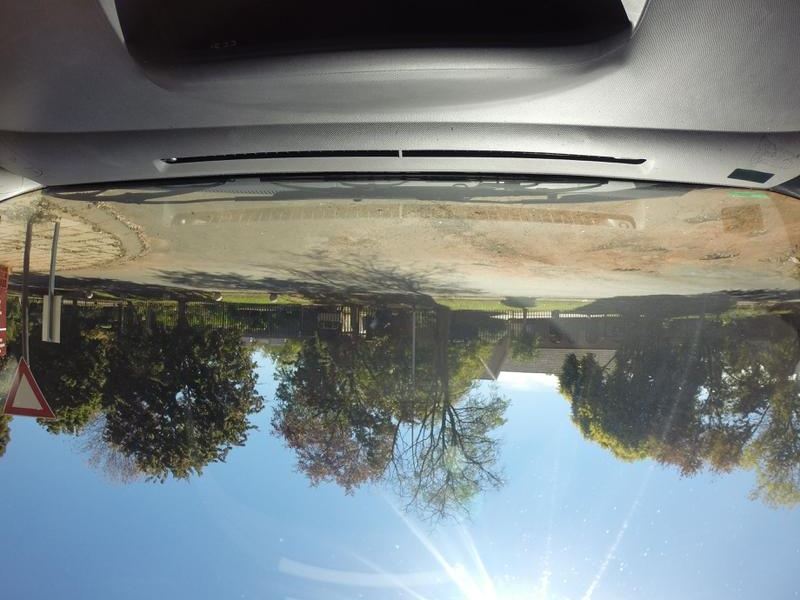pothole: (700, 250, 746, 266), (612, 237, 668, 250), (689, 208, 720, 227), (618, 264, 642, 277)
